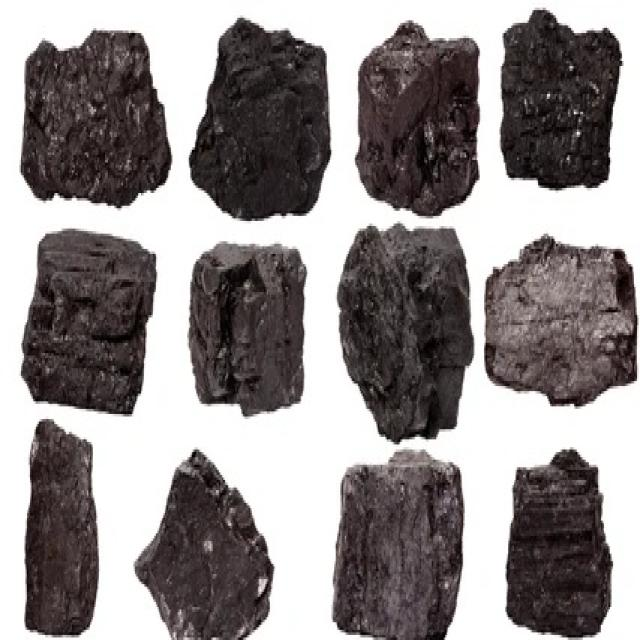Sedimentary: (330, 218, 484, 442), (16, 223, 168, 437), (478, 229, 640, 424), (324, 444, 484, 640), (129, 429, 277, 640), (187, 10, 333, 221), (18, 20, 172, 216), (185, 234, 316, 447), (492, 5, 624, 206), (350, 13, 482, 213), (502, 439, 627, 640), (13, 421, 107, 640)
